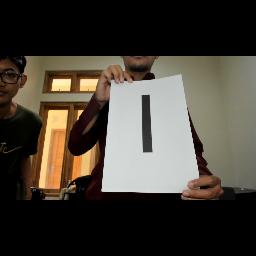i: (135, 92, 163, 168)
